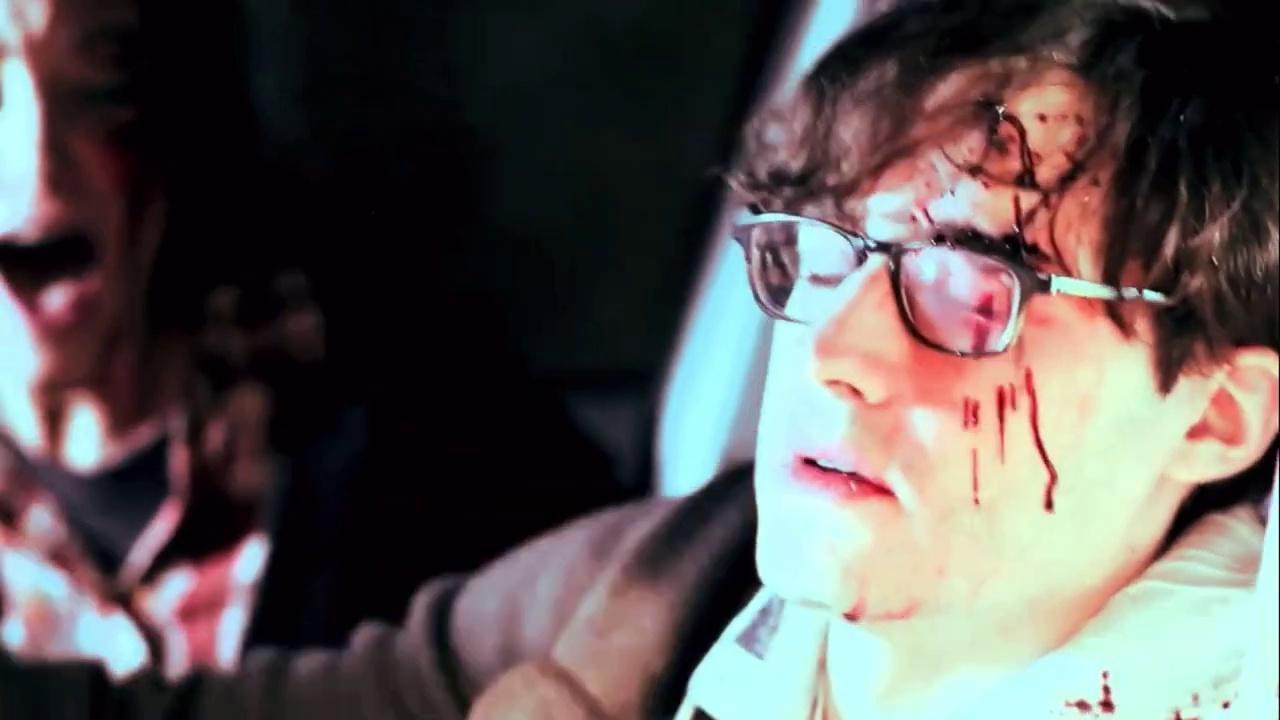Fire: (943, 64, 1112, 280), (34, 194, 161, 456), (1026, 366, 1061, 512), (966, 266, 1009, 352), (1066, 671, 1118, 718), (997, 382, 1020, 464), (872, 600, 918, 620), (964, 395, 983, 432), (843, 598, 869, 622), (974, 448, 981, 503), (1171, 709, 1205, 720), (1223, 698, 1234, 714), (1194, 693, 1203, 708), (1043, 276, 1075, 279)
